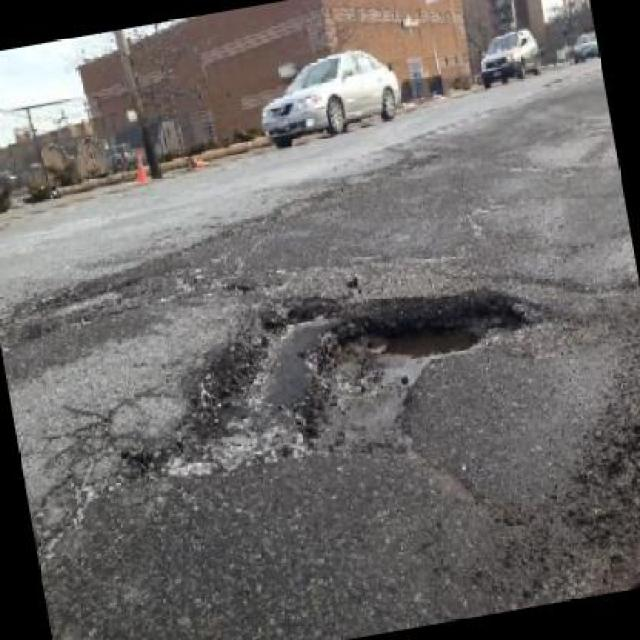pothole: (139, 257, 544, 486), (34, 275, 144, 336)
